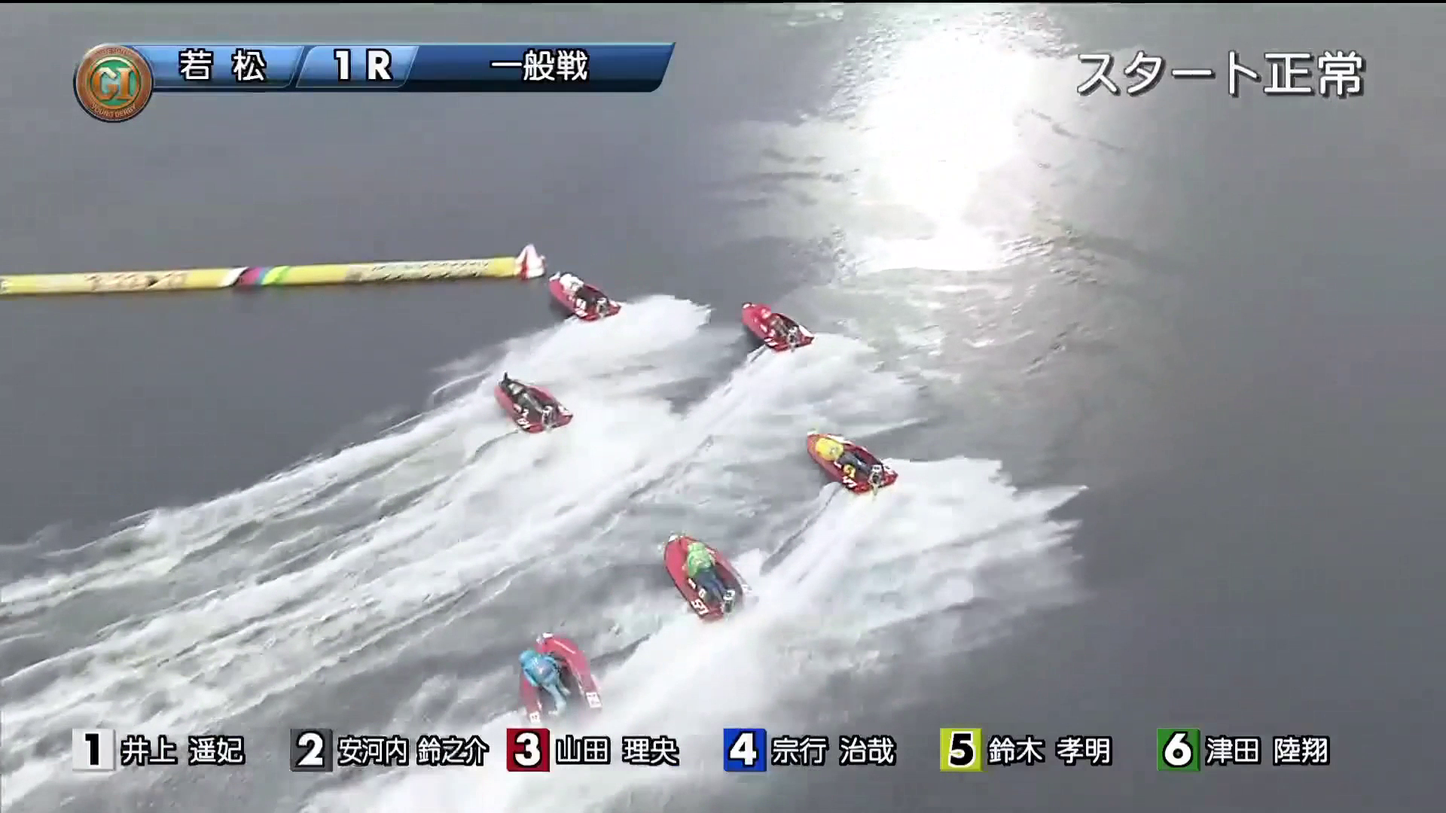１号艇: (556, 271, 626, 324)
２号艇: (487, 373, 616, 433)
３号艇: (740, 302, 838, 348)
４号艇: (679, 536, 813, 602)
５号艇: (507, 654, 631, 709)
６号艇: (816, 435, 916, 492)
